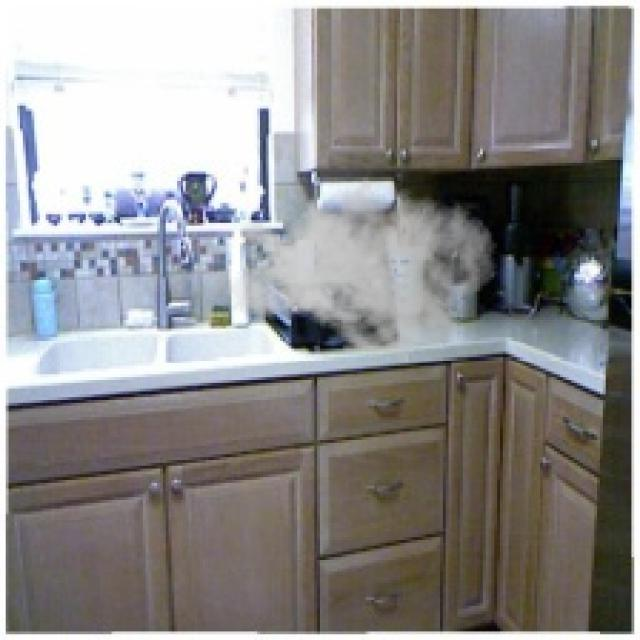Smoke: (226, 165, 497, 368)
